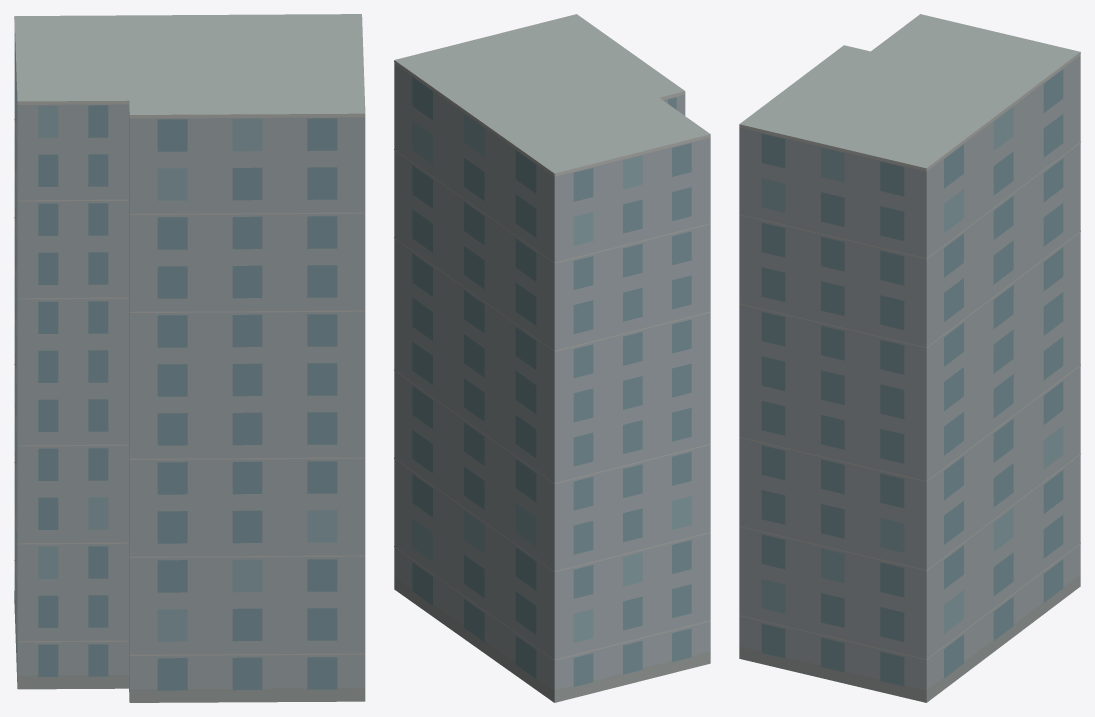
The model's file is residential-f27c21d8-d009-435b-b388-0c8daf723465.glb.
The picture shows the model from 3 angles, left to right: view 1: azimuth 30°, elevation 25°; view 2: azimuth 150°, elevation 25°; view 3: azimuth 270°, elevation 25°; orthographic projection. The views are drawn at different scales.
Visible parts, largest first — view 1: residential-f27c21d8-d009-435b-b388-0c8daf723465.tmp; view 2: residential-f27c21d8-d009-435b-b388-0c8daf723465.tmp; view 3: residential-f27c21d8-d009-435b-b388-0c8daf723465.tmp.
Part boxes in pixels (<box>): residential-f27c21d8-d009-435b-b388-0c8daf723465.tmp: <box>14,14,365,702</box>; residential-f27c21d8-d009-435b-b388-0c8daf723465.tmp: <box>394,14,710,702</box>; residential-f27c21d8-d009-435b-b388-0c8daf723465.tmp: <box>739,14,1080,702</box>.
Bounding box in the file's own units: 24.8 × 40 × 23.18.
